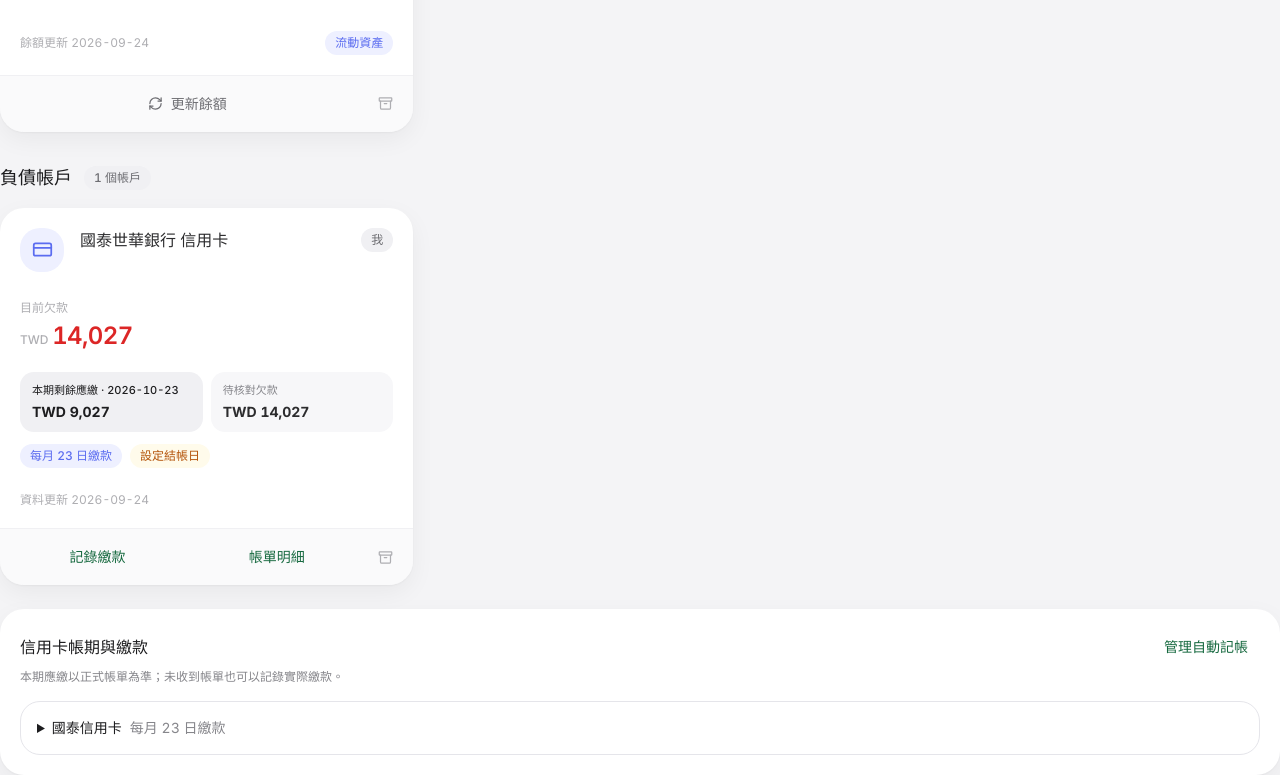
Test: links a selected existing debit without creating another bank debit
The width and height of the screenshot is (1280, 775).
(page scrolled)
Expected: the text "TWD 9,027" is shown, left=32, top=403, right=110, bottom=420
Click the button "記錄繳款": coordinates (98, 557) left=8, top=537, right=187, bottom=577
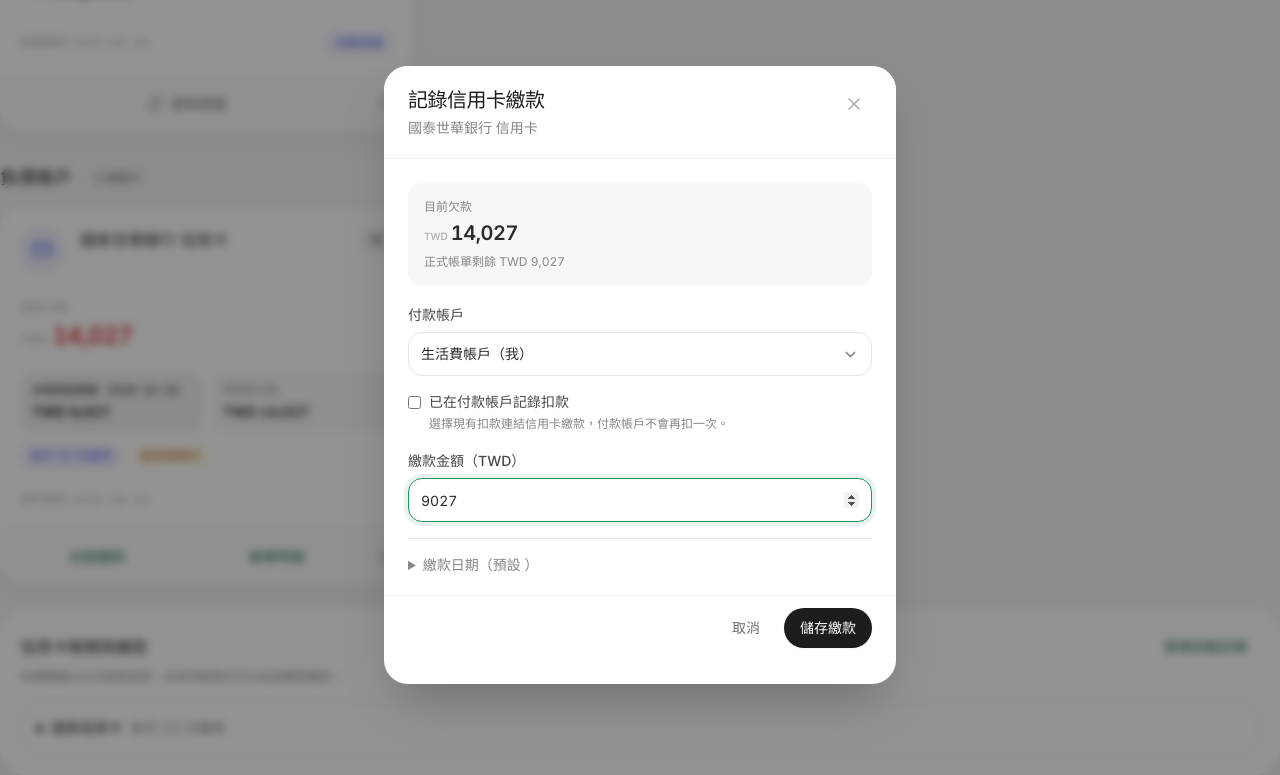
Click the checkbox labelled "已在付款帳戶記錄扣款 選擇現有扣款連結信用卡繳款，付款帳戶不會再扣一次。": coordinates (414, 402) left=408, top=396, right=421, bottom=409
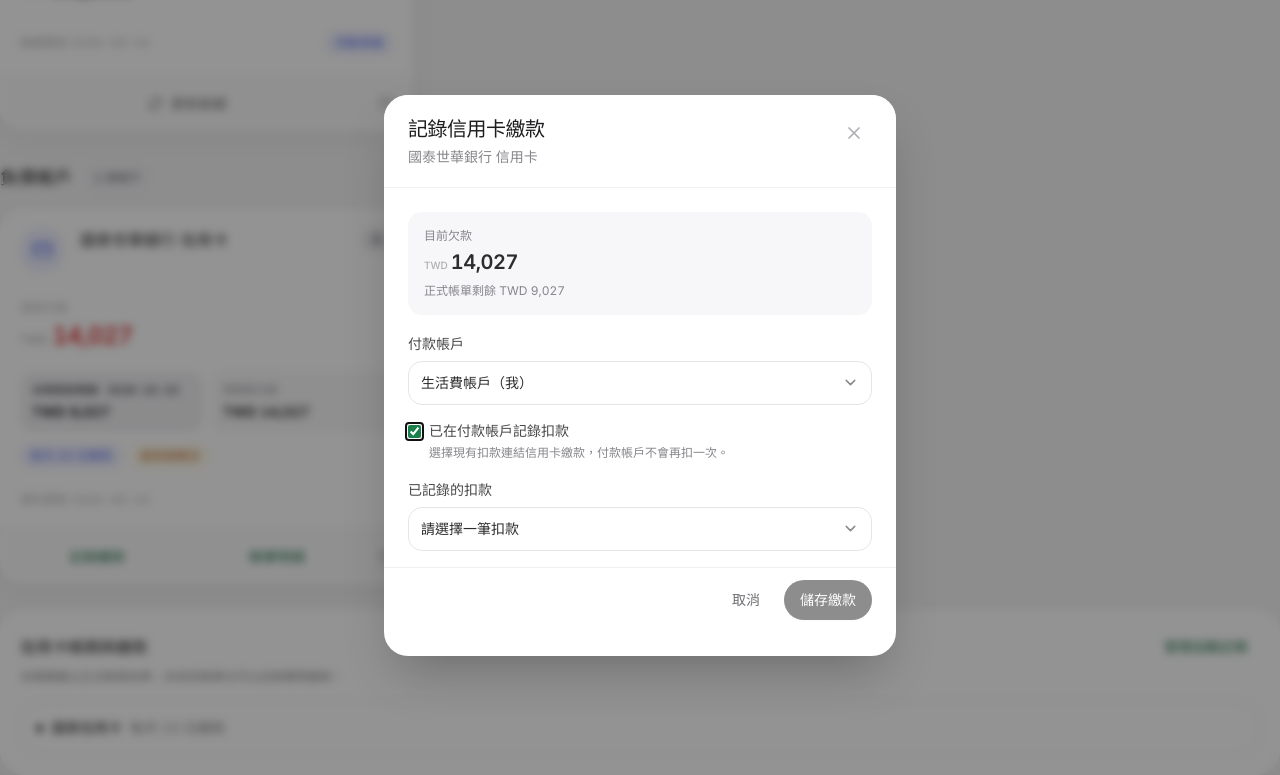
Expected: the button "儲存繳款" is disabled, left=784, top=580, right=872, bottom=620
Click the button with aria-label "已記錄的扣款": coordinates (470, 528) left=408, top=506, right=872, bottom=550
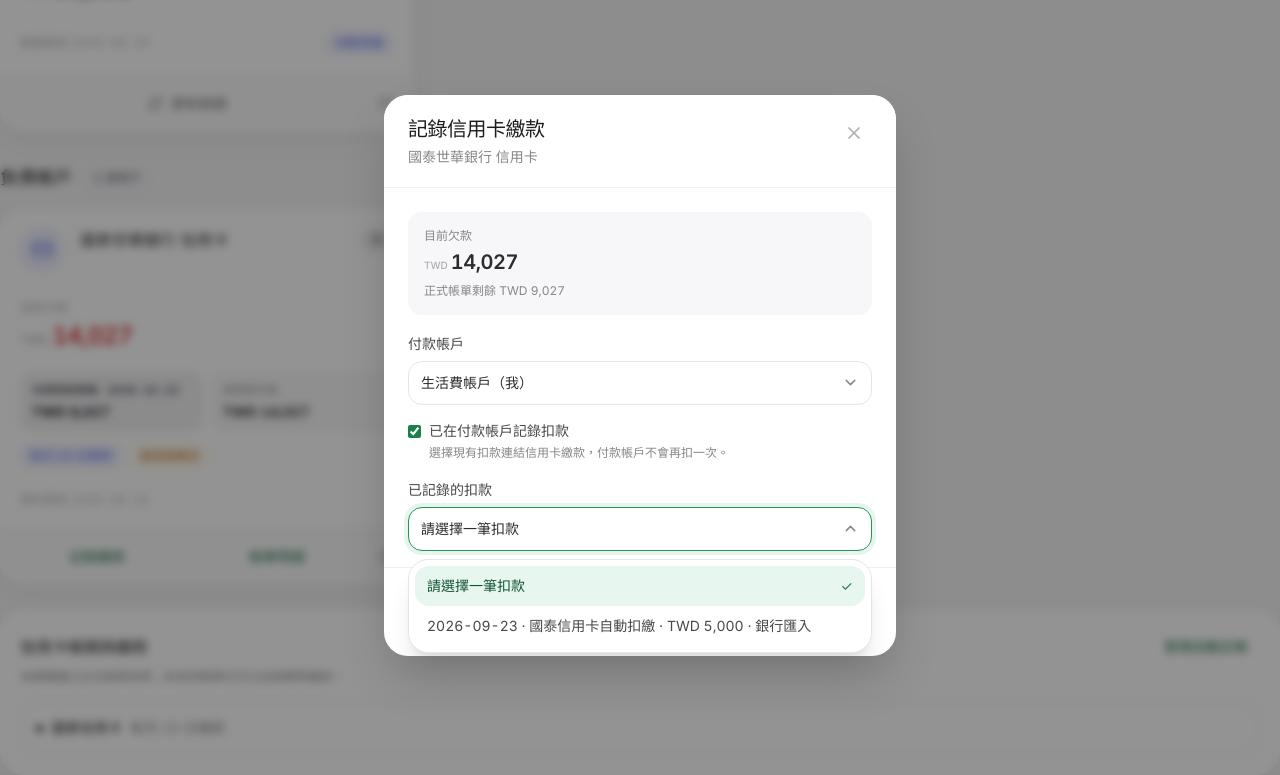
Click the option "2026-09-23 · 國泰信用卡自動扣繳 · TWD 5,000 · 銀行匯入": coordinates (640, 626) left=415, top=606, right=865, bottom=646
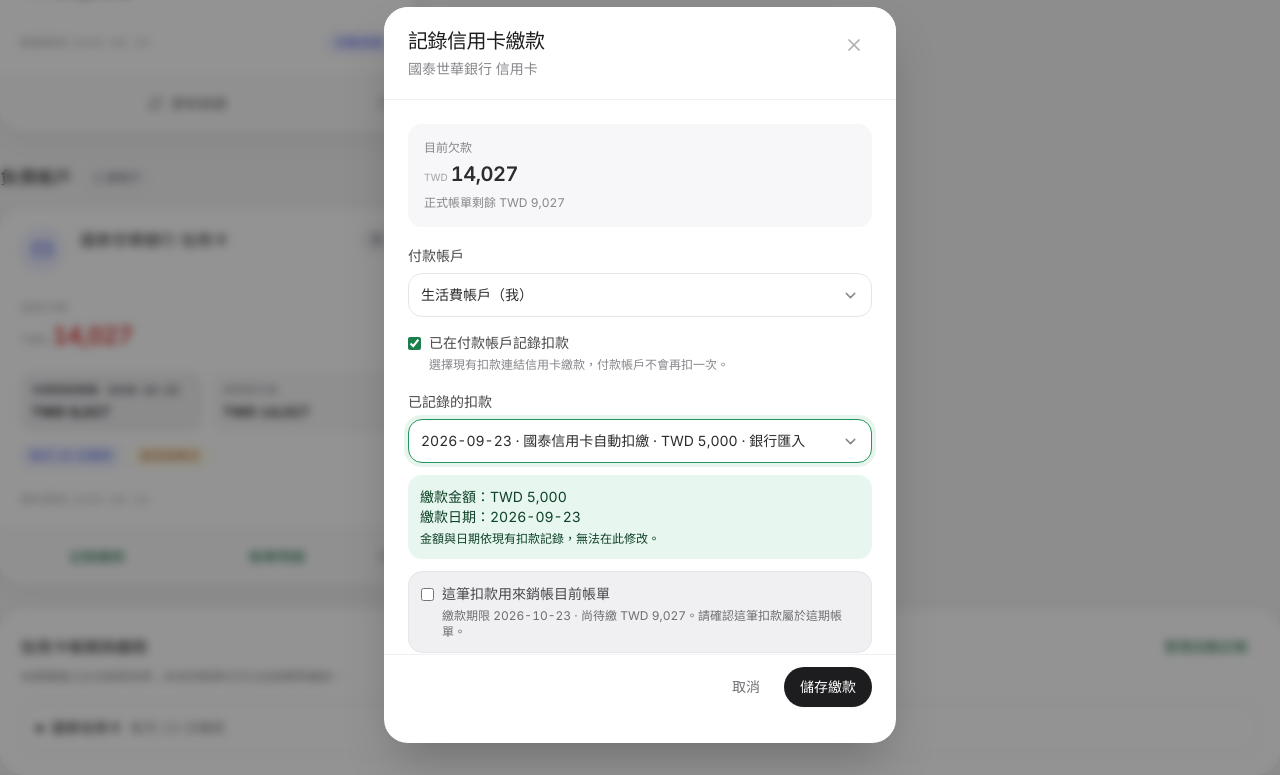
Expected: the text "繳款金額：TWD 5,000" is shown, left=420, top=488, right=567, bottom=505
Expected: the text "繳款日期：2026-09-23" is shown, left=420, top=508, right=581, bottom=525
Expected: the checkbox labelled "這筆扣款用來銷帳目前帳單 繳款期限 2026-10-23 · 尚待繳 TWD 9,027。請確認這筆扣款屬於這期帳單。" is not checked, left=421, top=588, right=434, bottom=601
Click the button "儲存繳款": coordinates (828, 687) left=784, top=667, right=872, bottom=707
(page scrolled)
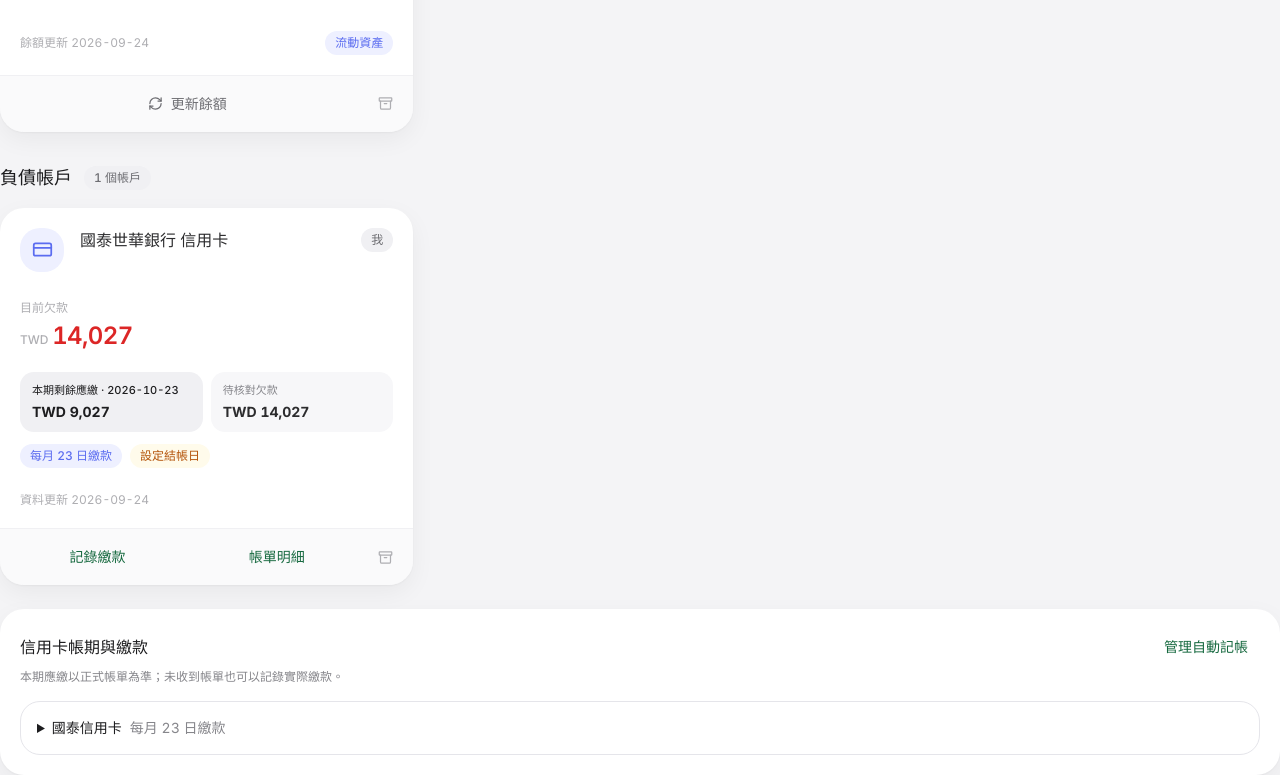
Click the button "記錄繳款": coordinates (98, 557) left=8, top=537, right=187, bottom=577
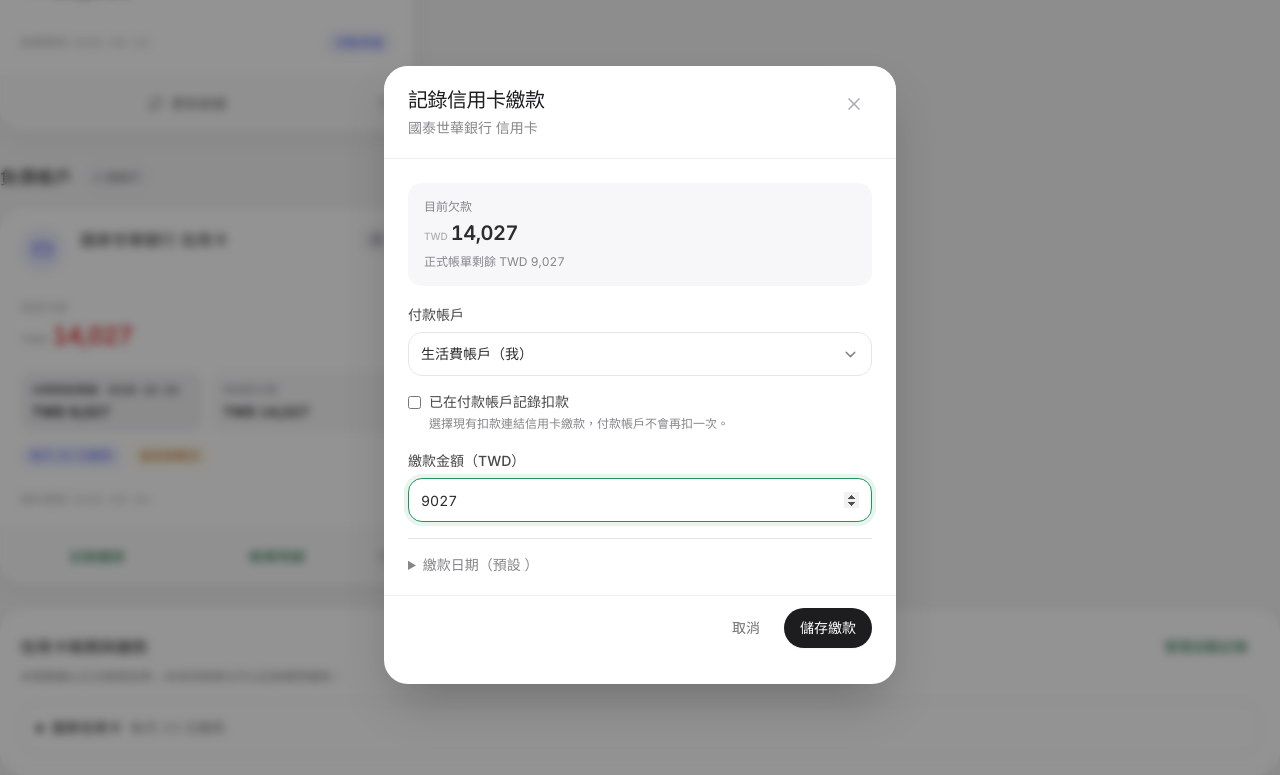
Expected: the text "已記錄的扣款" is not shown
Expected: the checkbox labelled "已在付款帳戶記錄扣款 選擇現有扣款連結信用卡繳款，付款帳戶不會再扣一次。" is not checked, left=408, top=396, right=421, bottom=409
